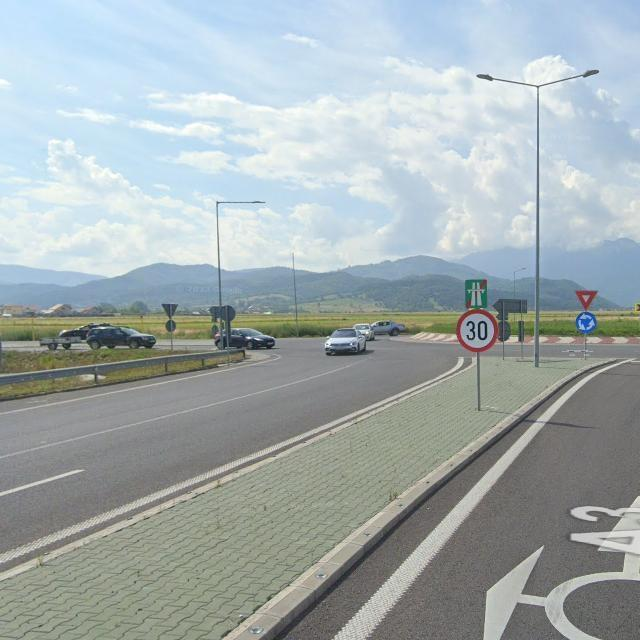forb_speed_over_30: (457, 308, 500, 353)
prio_give_way: (576, 290, 598, 311)
